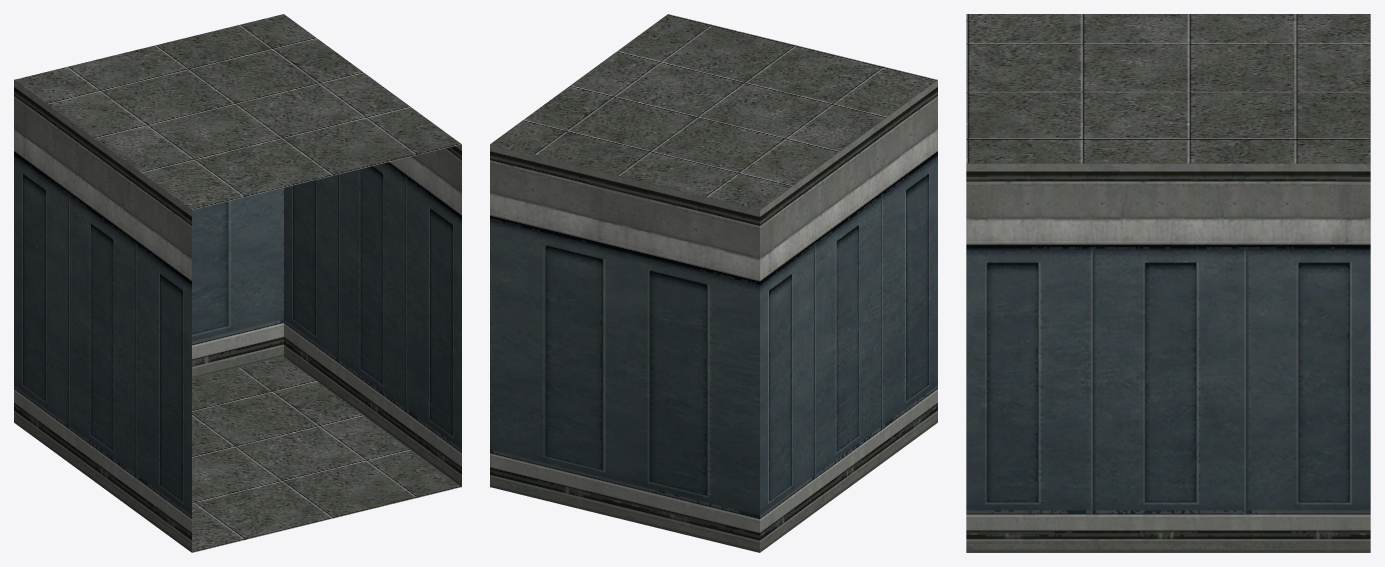
File: thm_corl_skyskraper_s03_r2_mesh_spawn0.fbx
3 renders of one model, left to right at view 1: azimuth 30°, elevation 25°; view 2: azimuth 150°, elevation 25°; view 3: azimuth 270°, elevation 25°, orthographic. The views are drawn at different scales.
Visible parts, largest first — view 1: mesh_node; view 2: mesh_node; view 3: mesh_node.
Boxes of the visible parts, x1,y1,x2,y2 form: mesh_node: [14, 14, 461, 552]; mesh_node: [490, 14, 937, 552]; mesh_node: [966, 14, 1370, 552].
Size of the model in its own units: 3.5 by 4.25 by 4.
